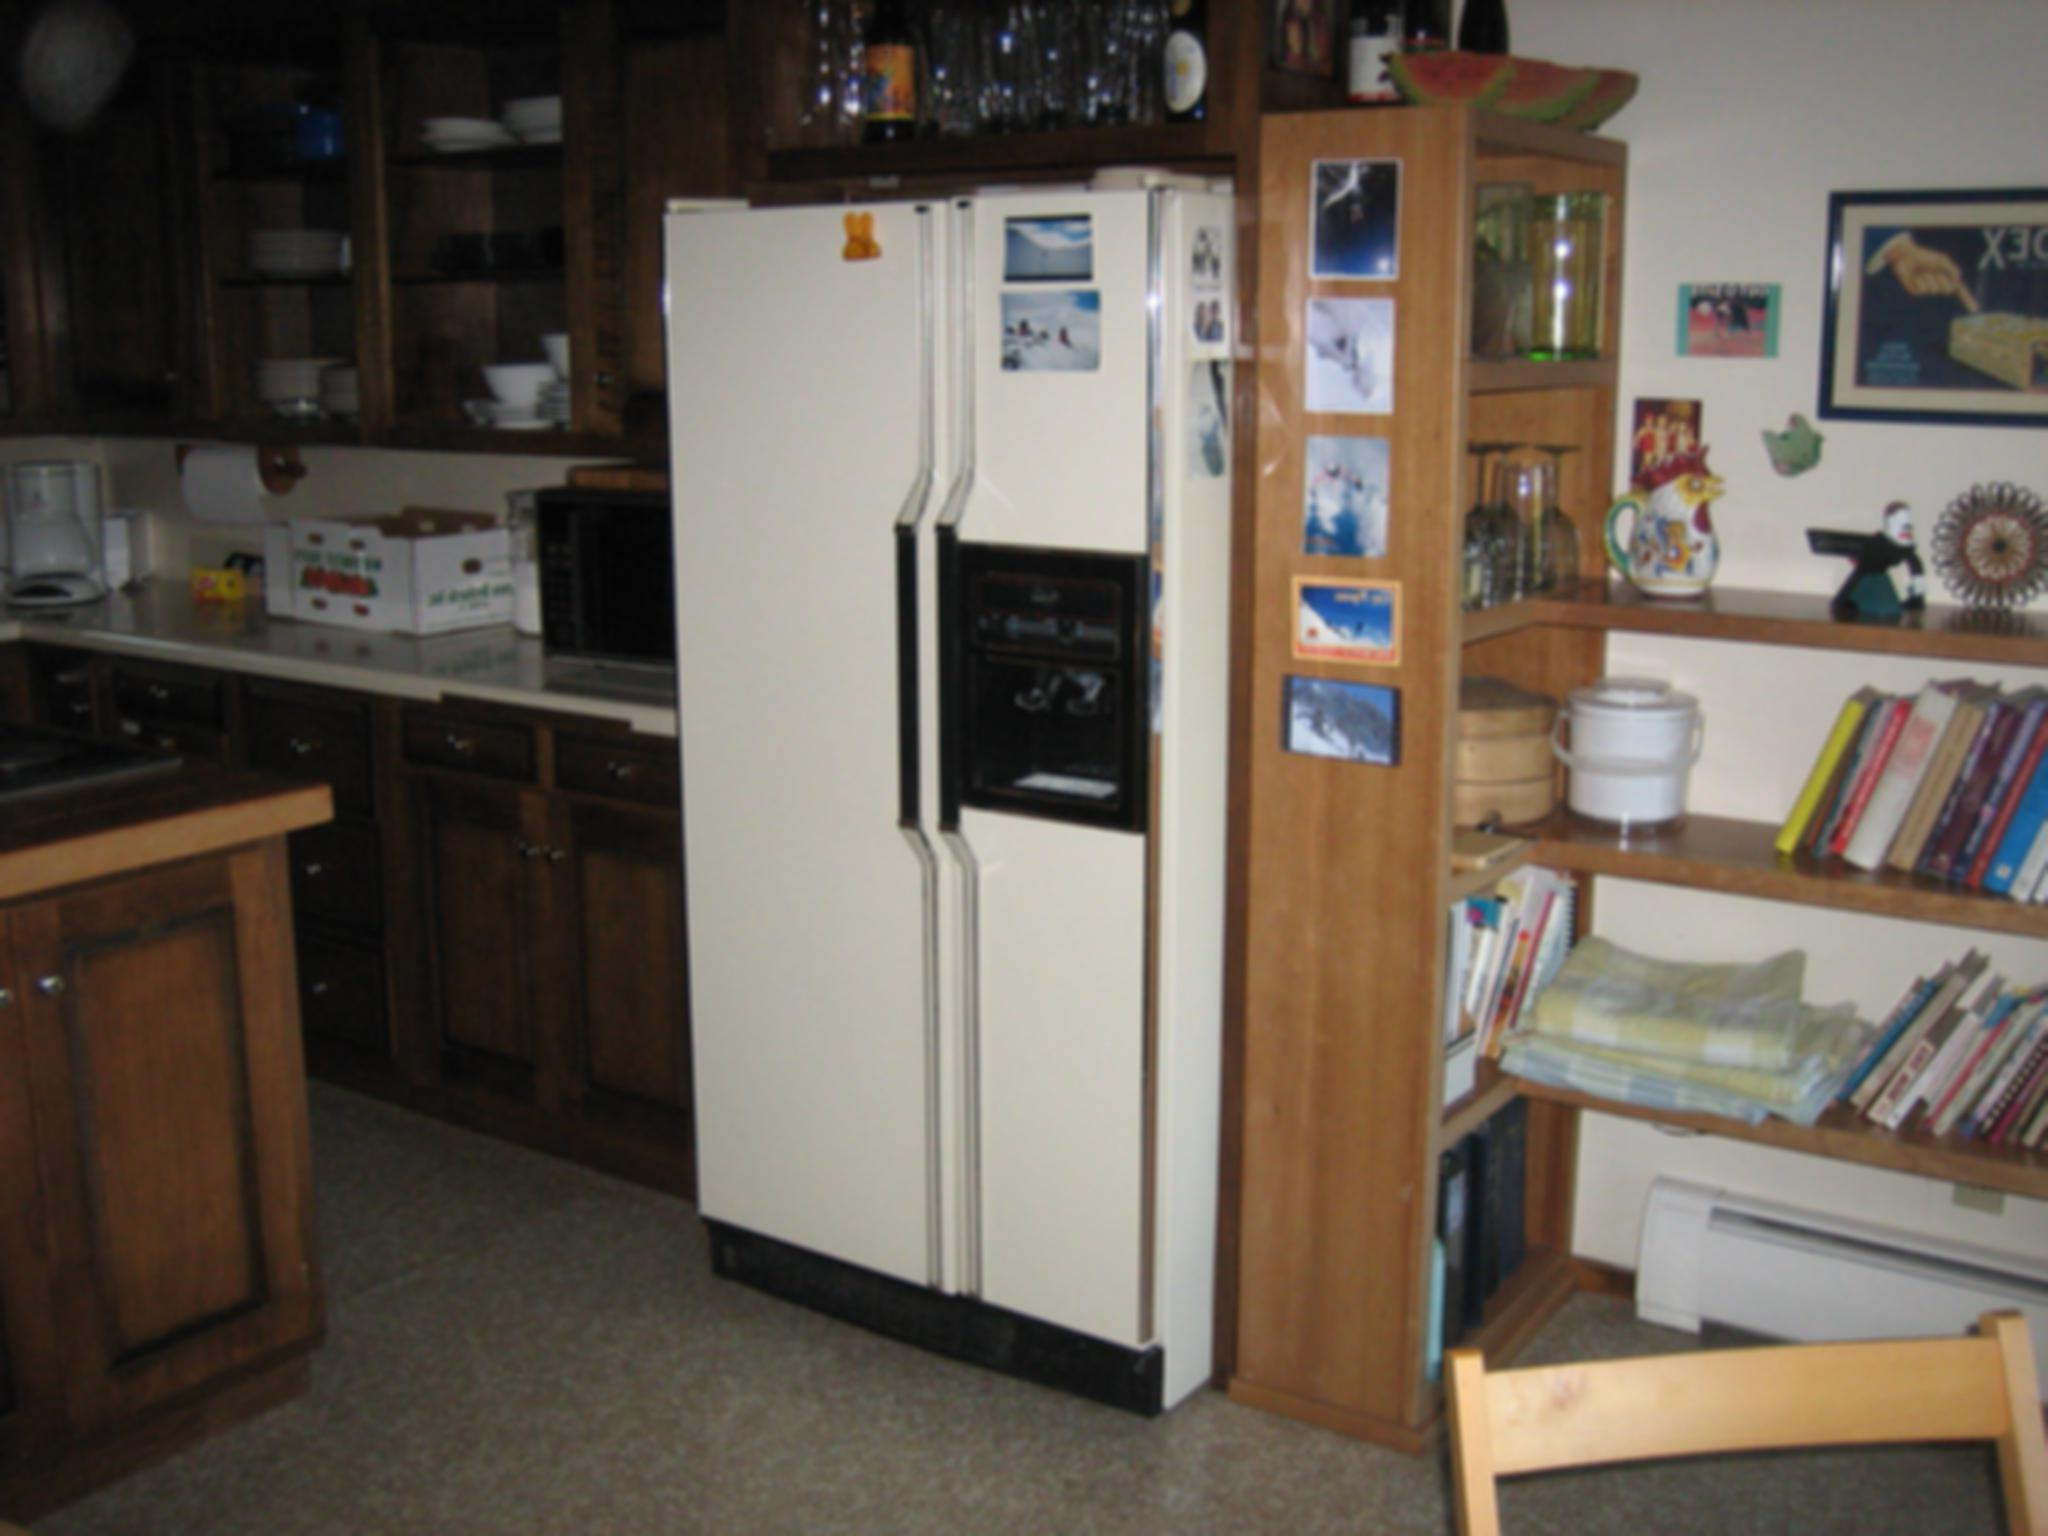Electrodomestico: (710, 190, 1224, 1296)
